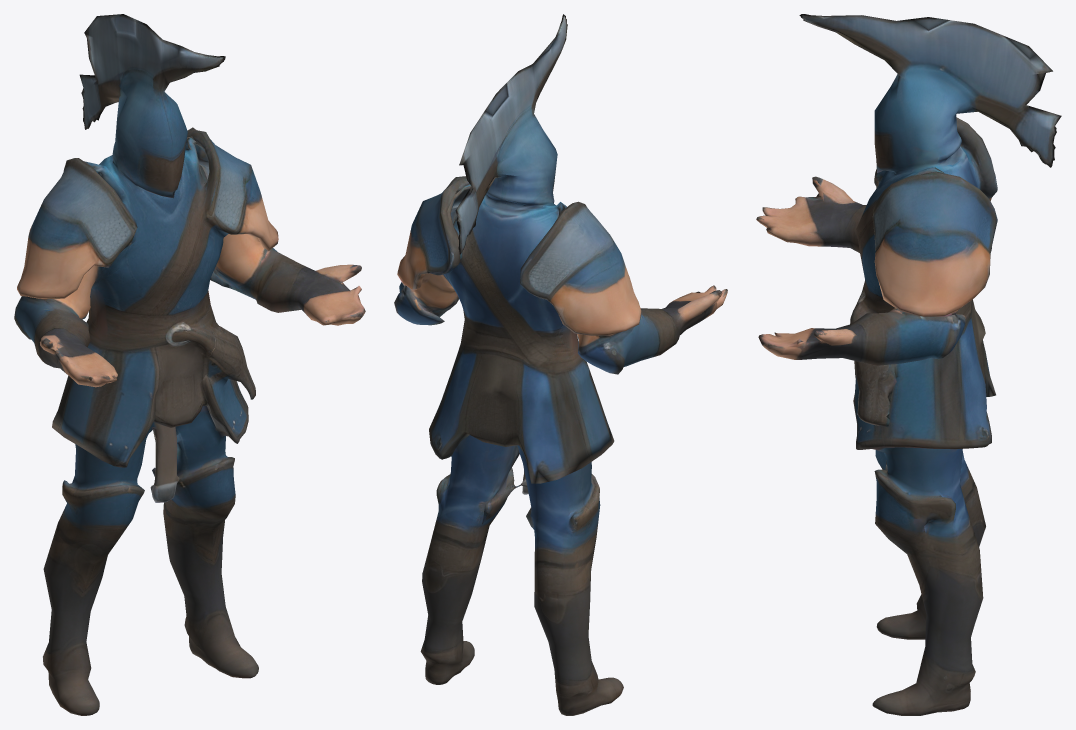
Rendered from HeroCharacter.glb.
3 renders of one model, left to right at view 1: azimuth 30°, elevation 25°; view 2: azimuth 150°, elevation 25°; view 3: azimuth 270°, elevation 25°, orthographic. The views are drawn at different scales.
Size of the model in its own units: 1 by 2 by 0.8319.
1 material, 1 textured.
